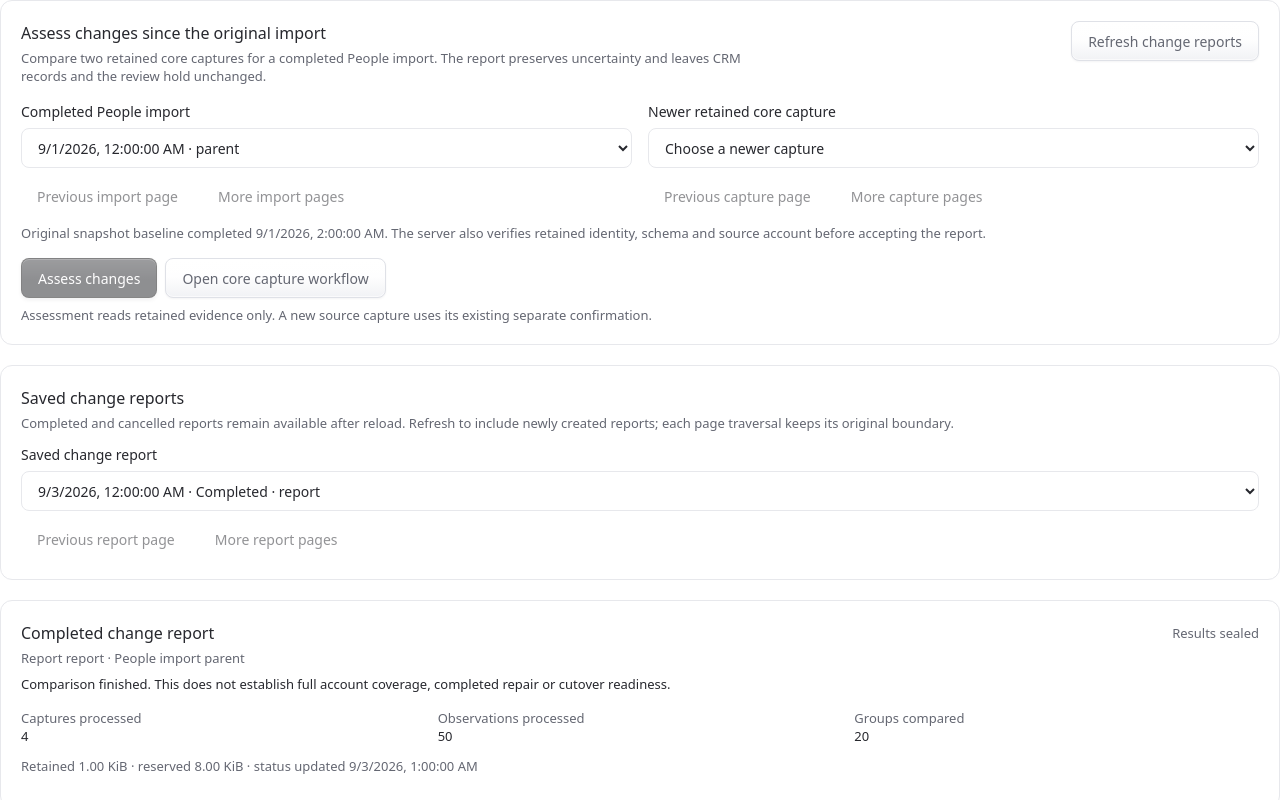
core change report workflow › clears report content when a current request reports permission revocation
Click the button "Refresh change reports": (1165, 41) [1071,21,1259,61]
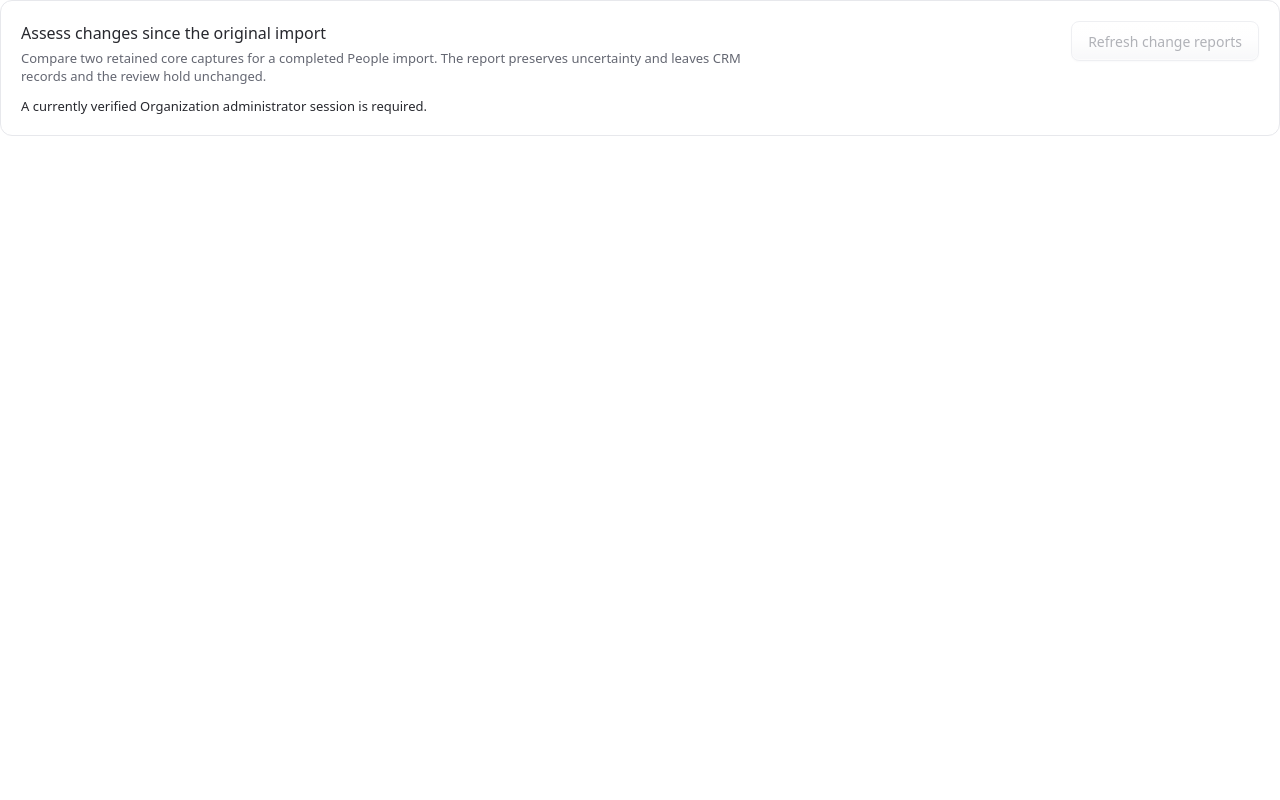
Expected: the text "currently verified Organization administrator" is shown, [21,97,427,115]
